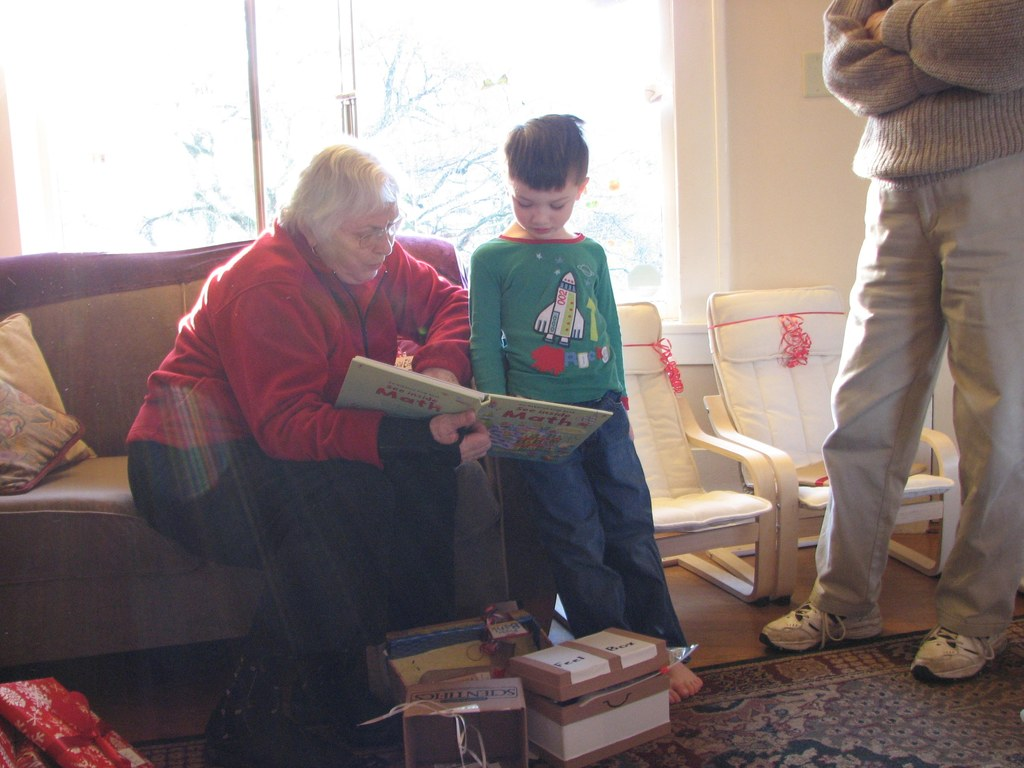Human_hand: (387, 414, 497, 472), (866, 8, 888, 47)
